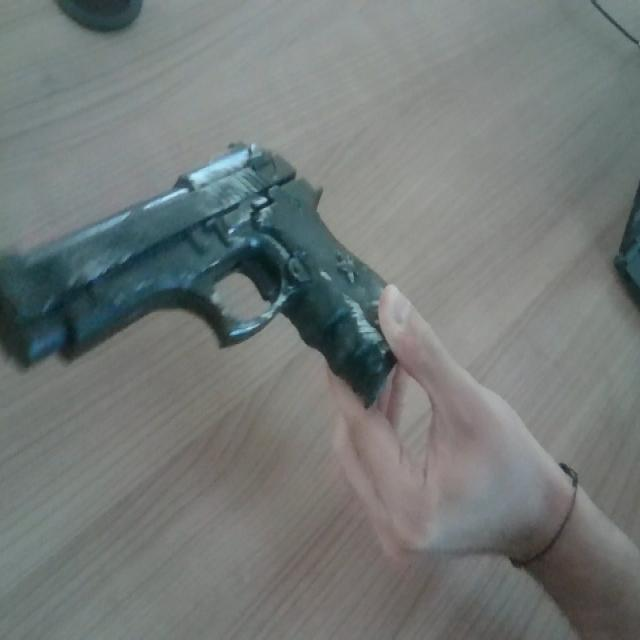handgun: (0, 123, 439, 452)
